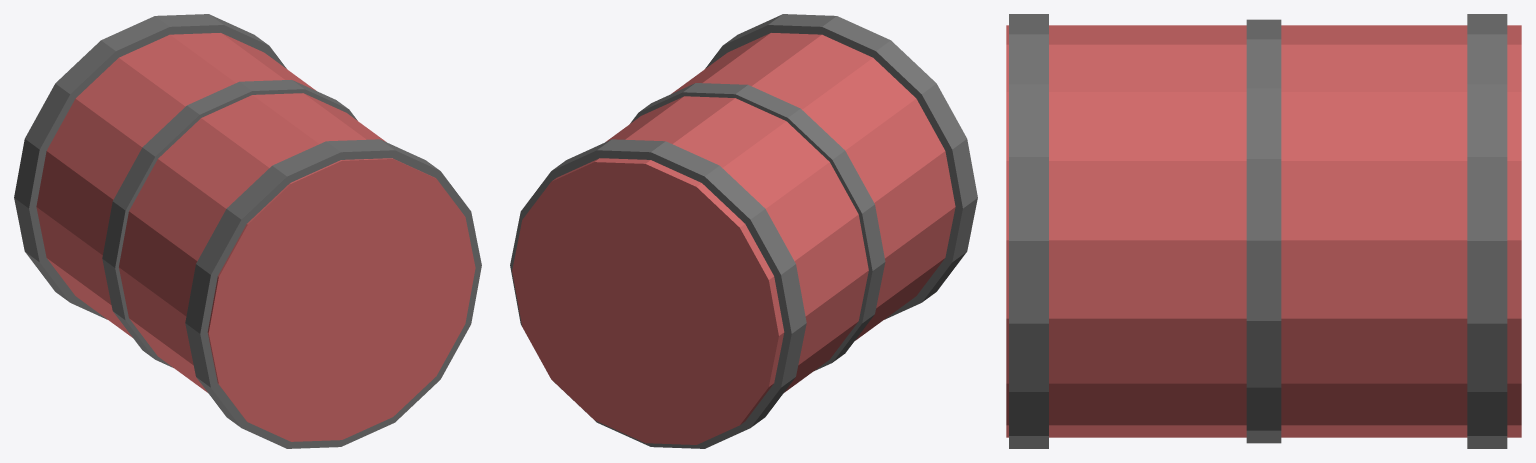
The model's file is city_oil_barrel_red.glb.
The picture shows the model from 3 angles, left to right: view 1: azimuth 30°, elevation 25°; view 2: azimuth 150°, elevation 25°; view 3: azimuth 270°, elevation 25°; orthographic projection. The views are drawn at different scales.
Visible parts, largest first — view 1: barrel_body, barrel_top_ring, barrel_bottom_ring, barrel_mid_ring; view 2: barrel_body, barrel_bottom_ring, barrel_top_ring, barrel_mid_ring; view 3: barrel_body, barrel_bottom_ring, barrel_top_ring, barrel_mid_ring.
Boxes of the visible parts, box(x1,y1,x2,y2) form: barrel_body: box(36, 33, 475, 441); barrel_top_ring: box(185, 139, 481, 448); barrel_bottom_ring: box(14, 14, 286, 319); barrel_mid_ring: box(102, 79, 357, 367); barrel_body: box(512, 33, 955, 444); barrel_bottom_ring: box(510, 139, 806, 448); barrel_top_ring: box(705, 14, 977, 319); barrel_mid_ring: box(630, 83, 885, 370); barrel_body: box(1006, 25, 1521, 437); barrel_bottom_ring: box(1467, 14, 1507, 448); barrel_top_ring: box(1009, 14, 1048, 448); barrel_mid_ring: box(1246, 19, 1281, 443).
Bounding box in the file's own units: 0.76 × 0.76 × 0.9.
